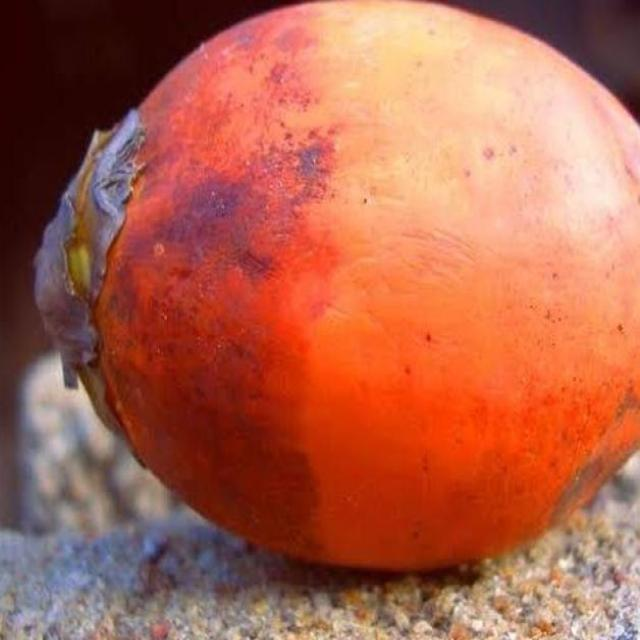good: (35, 0, 639, 577)
